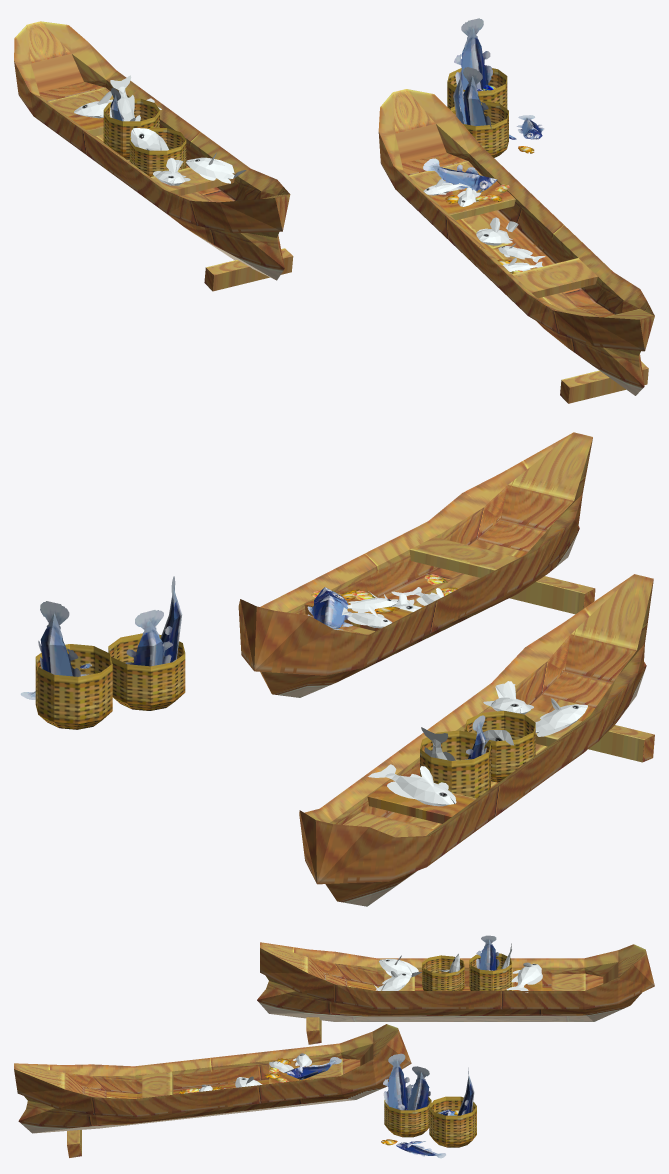
The model's file is riccoshipfish.dae.
The picture shows the model from 3 angles, top to bottom: view 1: azimuth 30°, elevation 25°; view 2: azimuth 150°, elevation 25°; view 3: azimuth 270°, elevation 25°; orthographic projection. The views are drawn at different scales.
Visible parts, largest first — view 1: m0; view 2: m0; view 3: m0.
Part boxes in pixels (left/top/right/bottom): m0: left=14, top=18, right=654, bottom=403; m0: left=20, top=432, right=654, bottom=906; m0: left=14, top=935, right=654, bottom=1158.
Bounding box in the file's own units: 1227 × 453 × 2109.
1 material, 1 textured.
